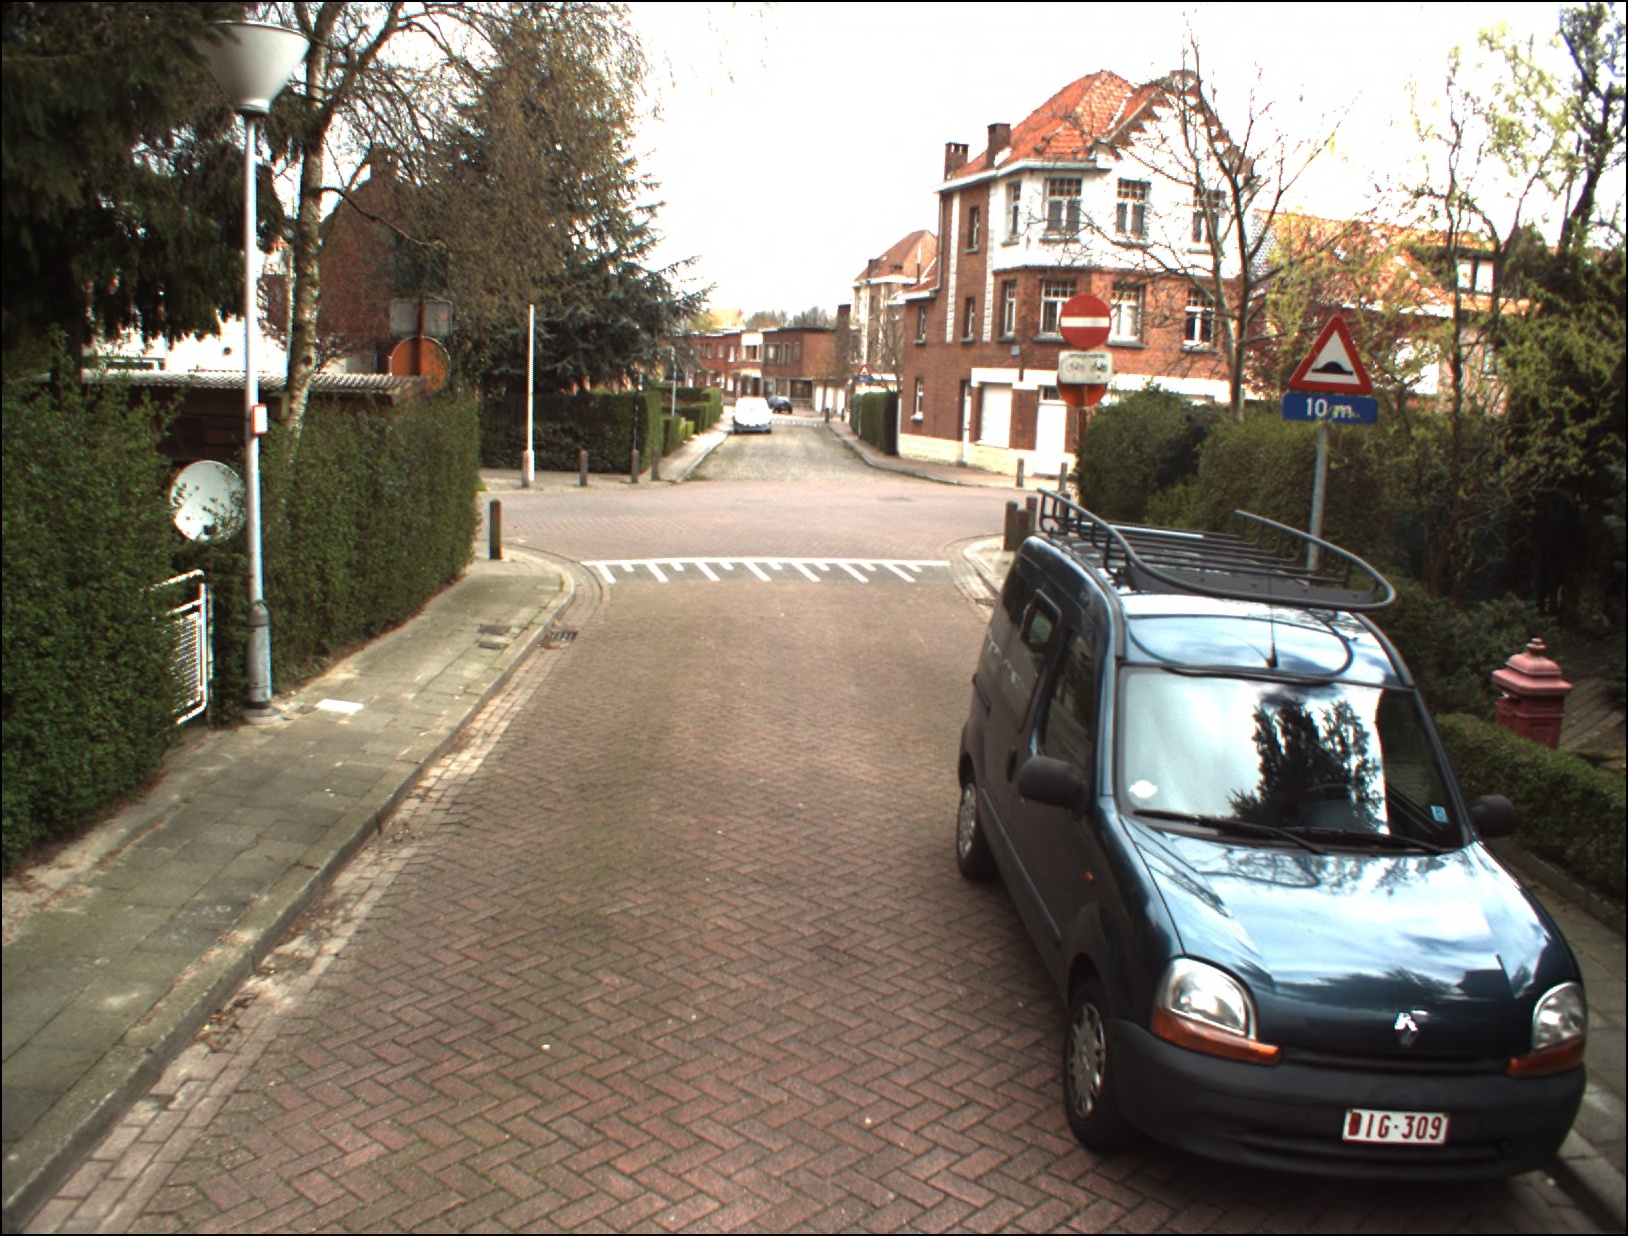noentry: (1057, 291, 1113, 347)
speedbump: (1290, 308, 1374, 399)
